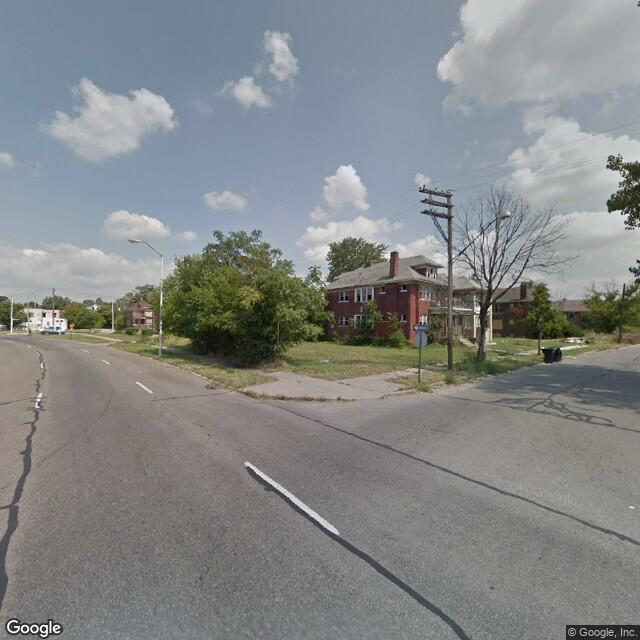litter: (506, 369, 513, 375), (319, 358, 327, 363), (434, 385, 440, 389)
